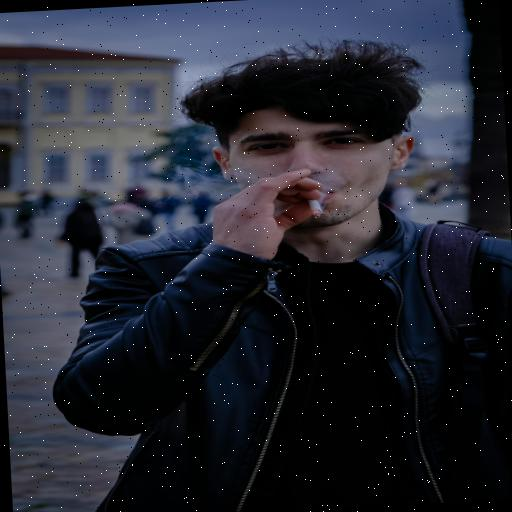dataset-deteksi-merokok: (219, 105, 398, 244)
